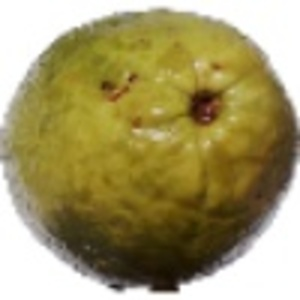goiaba: (9, 6, 294, 279)
